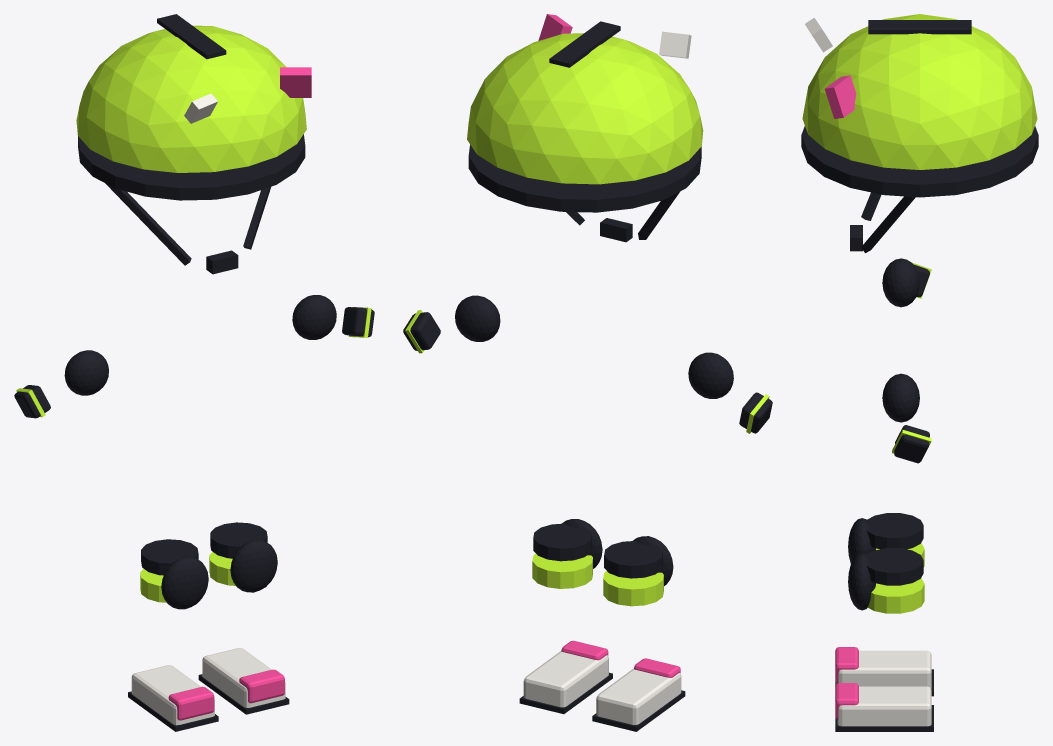
File: Outfit_Skate.fbx
3 views of the same model, side by side, from view 1: azimuth 30°, elevation 25°; view 2: azimuth 150°, elevation 25°; view 3: azimuth 270°, elevation 25° (orthographic). The views are drawn at different scales.
Parts seen in each view (by area): view 1: SkateHelmet__Head, ShoeL__foot.L, ShoeR__foot.R, KneePadL__shin.L.005, KneePadR__shin.R.005, ElbowR__forearm.R.001, ElbowL__forearm.L.001, WristL__forearm.L.002, WristR__forearm.R.002; view 2: SkateHelmet__Head, ShoeR__foot.R, ShoeL__foot.L, KneePadL__shin.L.005, KneePadR__shin.R.005, ElbowR__forearm.R.001, ElbowL__forearm.L.001, WristL__forearm.L.002, WristR__forearm.R.002; view 3: SkateHelmet__Head, ShoeL__foot.L, KneePadL__shin.L.005, ShoeR__foot.R, KneePadR__shin.R.005, ElbowL__forearm.L.001, ElbowR__forearm.R.001, WristL__forearm.L.002.
Part boxes in pixels (<box>): SkateHelmet__Head: <box>76,14,311,274</box>; ShoeL__foot.L: <box>198,648,289,714</box>; ShoeR__foot.R: <box>128,665,218,731</box>; KneePadL__shin.L.005: <box>209,522,277,592</box>; KneePadR__shin.R.005: <box>140,539,208,609</box>; ElbowR__forearm.R.001: <box>64,350,108,395</box>; ElbowL__forearm.L.001: <box>292,295,336,339</box>; WristL__forearm.L.002: <box>342,307,374,337</box>; WristR__forearm.R.002: <box>14,385,50,418</box>; SkateHelmet__Head: <box>467,14,703,242</box>; ShoeR__foot.R: <box>592,658,685,731</box>; ShoeL__foot.L: <box>519,640,612,714</box>; KneePadL__shin.L.005: <box>532,519,602,588</box>; KneePadR__shin.R.005: <box>603,536,673,606</box>; ElbowR__forearm.R.001: <box>688,352,733,398</box>; ElbowL__forearm.L.001: <box>455,295,500,341</box>; WristL__forearm.L.002: <box>403,310,440,353</box>; WristR__forearm.R.002: <box>739,392,772,433</box>; SkateHelmet__Head: <box>801,14,1038,253</box>; ShoeL__foot.L: <box>835,683,933,731</box>; KneePadL__shin.L.005: <box>848,548,924,613</box>; ShoeR__foot.R: <box>835,647,933,696</box>; KneePadR__shin.R.005: <box>848,513,924,567</box>; ElbowL__forearm.L.001: <box>882,373,919,422</box>; ElbowR__forearm.R.001: <box>882,258,919,307</box>; WristL__forearm.L.002: <box>892,425,931,463</box>.
Bounding box in the file's own units: 0.8928 × 1.59 × 0.504.
